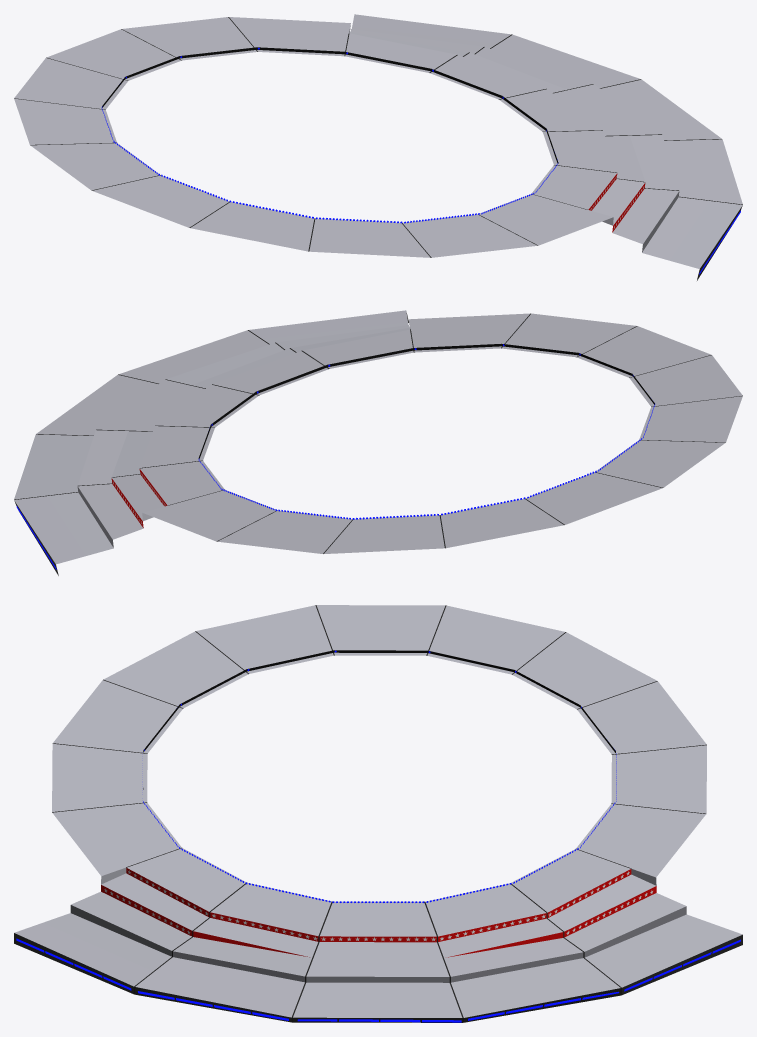
The model's file is DomDancerBase.glb.
The picture shows the model from 3 angles, top to bottom: view 1: azimuth 30°, elevation 25°; view 2: azimuth 150°, elevation 25°; view 3: azimuth 270°, elevation 25°; orthographic projection. The views are drawn at different scales.
Visible parts, largest first — view 1: Circle; view 2: Circle; view 3: Circle.
Part boxes in pixels (x1,y1,x2,y2): Circle: (14, 14, 742, 280); Circle: (14, 310, 742, 575); Circle: (14, 605, 742, 1022).
Bounding box in the file's own units: 23.79 × 3.59 × 23.1.
